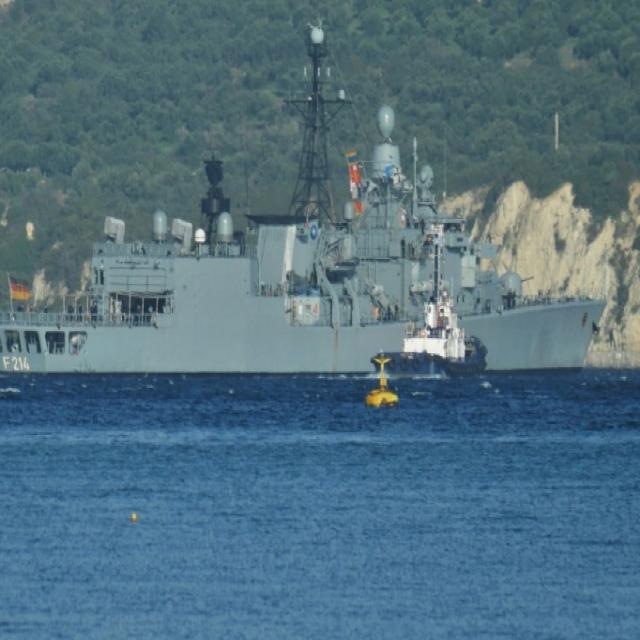Fragata: (1, 28, 614, 384)
